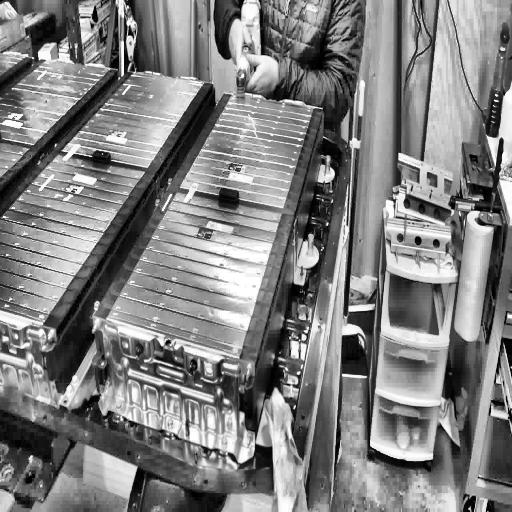battery_module: (106, 191, 282, 359), (0, 153, 144, 325), (180, 94, 314, 207), (61, 74, 204, 168)
